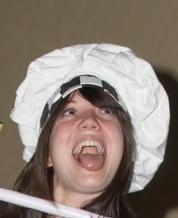face: (63, 104, 117, 176)
